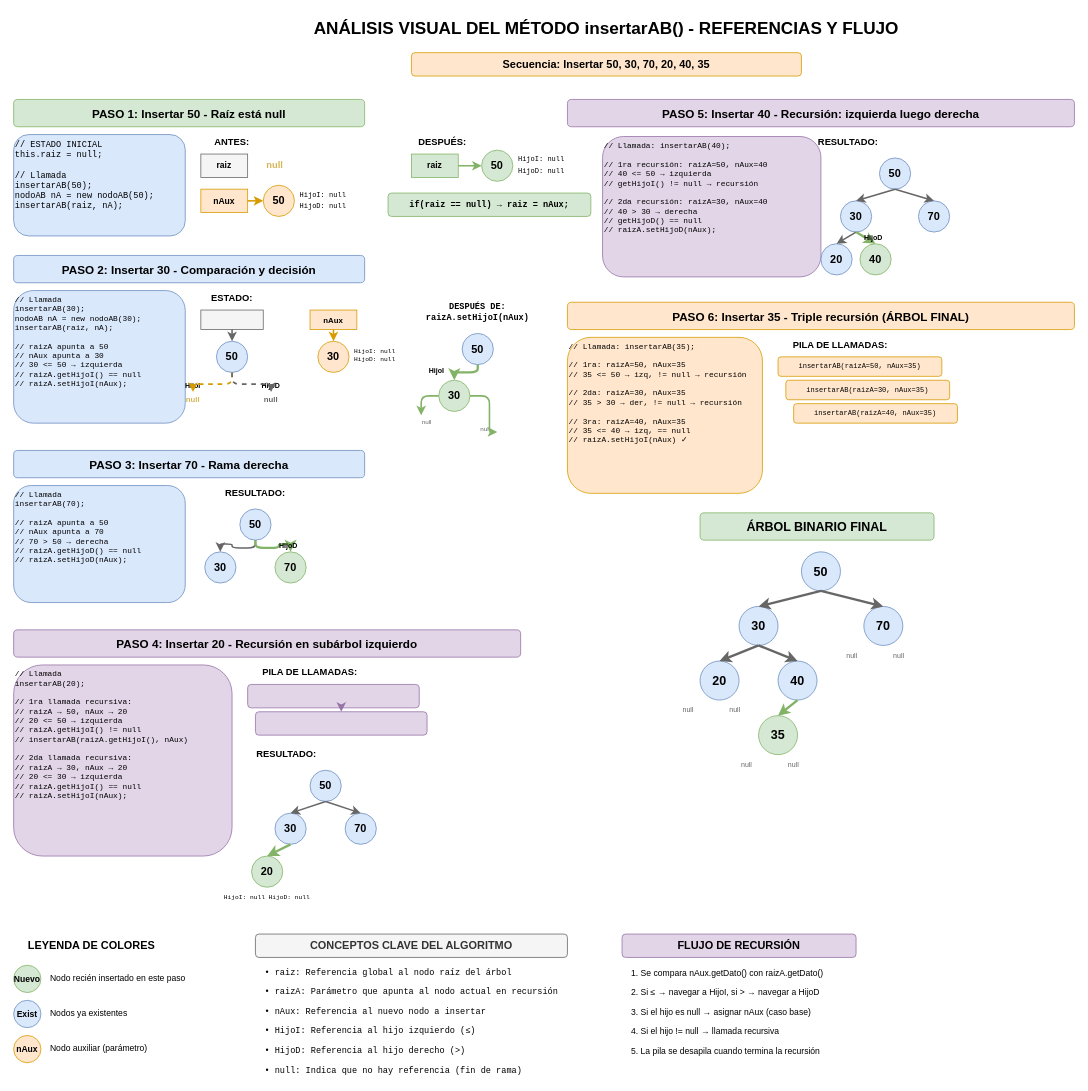
The diagram is 1088 pixels wide and 1091 high, and some of its shapes have lost their labels. Here are the shapes that lost their labels. From the top down, the centre of each, then its label:
At point (231, 319): "raiz/raizA".
At point (333, 696): "insertarAB(raizA=50, nAux=20)".
At point (341, 723): "insertarAB(raizA=30, nAux=20)".
